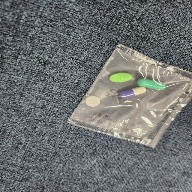러키펜정: (86, 96, 100, 108)
씨엠지세파클러캡슐: (119, 87, 147, 98)
에르도캡슐: (137, 78, 167, 91)
휴티렌정: (108, 72, 133, 84)
